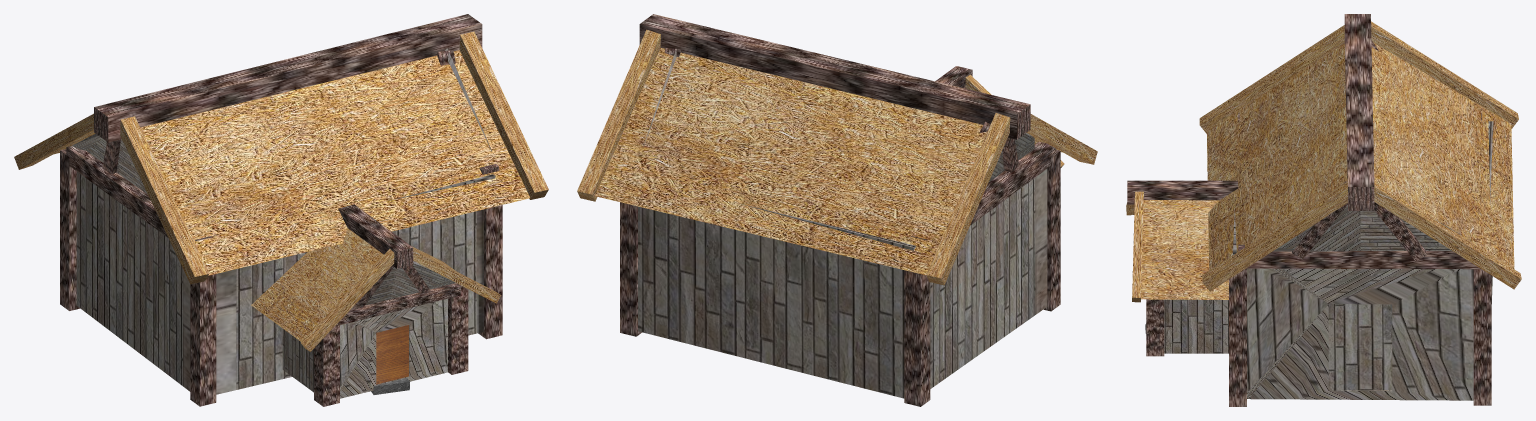
The model's file is house4.glb.
3 renders of one model, left to right at view 1: azimuth 30°, elevation 25°; view 2: azimuth 150°, elevation 25°; view 3: azimuth 270°, elevation 25°, orthographic. The views are drawn at different scales.
Parts seen in each view (by area): view 1: Plane.020, Cube.040, Cube.049, Cube.039, Plane.012, Cube.048, Cube.047, Cube.054, Cube.053, Cube.055, Cube.051, Cube.034 (+9 smaller); view 2: Plane.021, Cube.040, Cube.049, Cube.045, Cube.046, Cube.053, Cube.052, Cube.055, Cube.054, Cube.048, Plane.019, Cube.034; view 3: Cube.040, Plane.021, Plane.020, Plane.011, Cube.050, Cube.049, Cube.056, Cube.039, Plane.018, Cube.047, Cube.046, Cube.048 (+8 smaller).
Boxes of the visible parts, x1,y1,x2,y2 form: Plane.020: (140, 50, 529, 275); Cube.040: (76, 172, 495, 394); Cube.049: (94, 14, 482, 142); Cube.039: (282, 298, 447, 398); Plane.012: (251, 228, 383, 341); Cube.048: (120, 116, 208, 284); Cube.047: (459, 31, 548, 199); Cube.054: (190, 274, 216, 406); Cube.053: (60, 149, 79, 310); Cube.055: (66, 146, 211, 240); Cube.051: (478, 181, 502, 339); Cube.034: (338, 204, 413, 268); Plane.021: (595, 48, 987, 275); Cube.040: (638, 169, 1047, 398); Cube.049: (639, 14, 1030, 139); Cube.045: (926, 113, 1010, 285); Cube.046: (577, 29, 660, 201); Cube.053: (904, 249, 930, 406); Cube.052: (620, 202, 641, 336); Cube.055: (911, 141, 1056, 240); Cube.054: (1043, 149, 1060, 311); Cube.048: (1027, 114, 1097, 164); Plane.019: (988, 133, 1034, 182); Cube.034: (935, 66, 972, 87); Cube.040: (1233, 121, 1493, 400); Plane.021: (1371, 43, 1514, 268); Plane.020: (1206, 43, 1347, 270); Plane.011: (1141, 200, 1228, 299); Cube.050: (1328, 304, 1392, 390); Cube.049: (1344, 14, 1374, 210); Cube.056: (1238, 244, 1481, 269); Cube.039: (1164, 299, 1228, 353); Plane.018: (1273, 205, 1460, 251); Cube.047: (1202, 181, 1347, 291); Cube.046: (1374, 182, 1521, 289); Cube.048: (1199, 25, 1344, 133).
Bounding box in the file's own units: 45.9 × 29.49 × 44.12.
50 materials, 50 textured.
